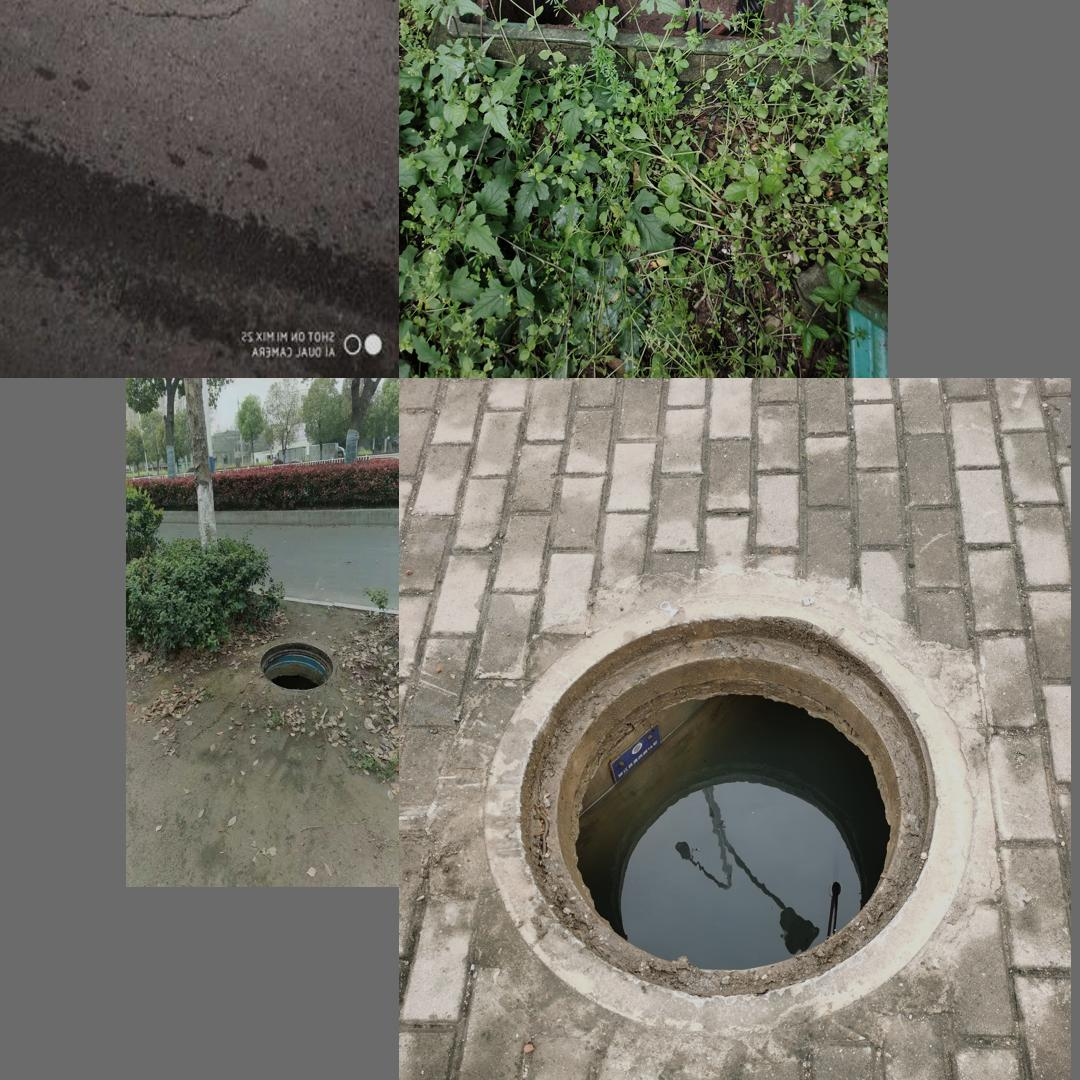lose: (480, 595, 973, 1031), (444, 0, 828, 55), (54, 0, 300, 25), (254, 633, 340, 698)
